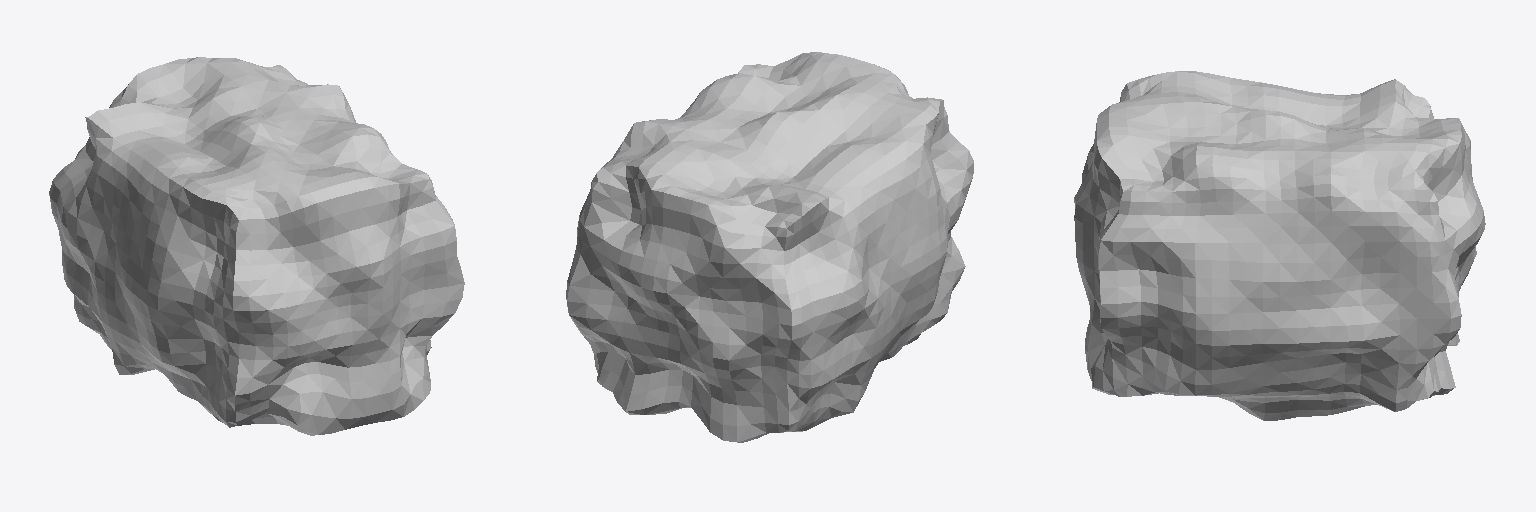
The model's file is Comet Icy mass.obj.
3 renders of one model, left to right at view 1: azimuth 30°, elevation 25°; view 2: azimuth 150°, elevation 25°; view 3: azimuth 270°, elevation 25°, orthographic.
Parts seen in each view (by area): view 1: Cube_Cube.003; view 2: Cube_Cube.003; view 3: Cube_Cube.003.
Part boxes in pixels (left/top/right/bottom): Cube_Cube.003: left=49, top=57, right=464, bottom=435; Cube_Cube.003: left=566, top=52, right=973, bottom=442; Cube_Cube.003: left=1074, top=71, right=1485, bottom=420.
Size of the model in its own units: 2.38 by 2.25 by 3.01.